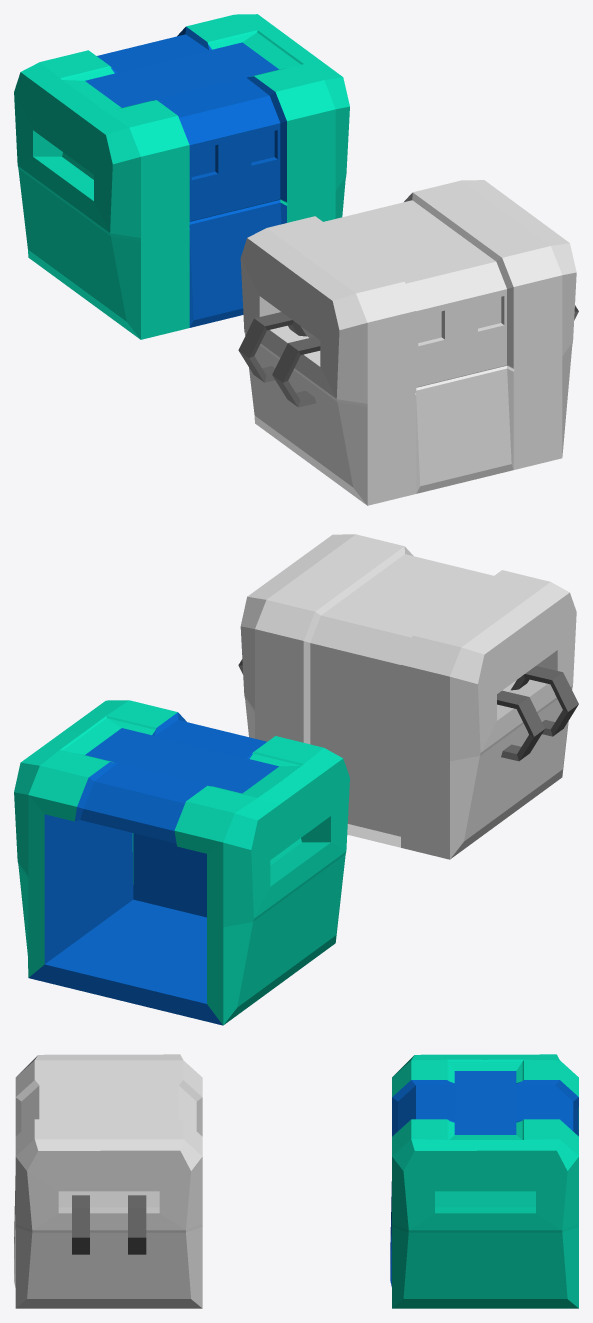
The model's file is ExportedBlenderFBXFile.fbx.
3 views of the same model, one above another, from view 1: azimuth 30°, elevation 25°; view 2: azimuth 150°, elevation 25°; view 3: azimuth 270°, elevation 25° (orthographic). The views are drawn at different scales.
Visible parts, largest first — view 1: Cube.001, Cube, Cylinder.007, Cylinder.006; view 2: Cube, Cube.001, Cylinder.006, Cylinder.007; view 3: Cube, Cube.001, Cylinder.004, Cylinder.005.
Boxes of the visible parts, left/top/right/bottom form: Cube.001: left=240, top=180, right=576, bottom=505; Cube: left=14, top=14, right=349, bottom=339; Cylinder.007: left=238, top=312, right=306, bottom=382; Cylinder.006: left=272, top=337, right=320, bottom=407; Cube: left=14, top=700, right=349, bottom=1025; Cube.001: left=240, top=534, right=576, bottom=859; Cylinder.006: left=511, top=666, right=578, bottom=736; Cylinder.007: left=497, top=690, right=544, bottom=761; Cube: left=390, top=1054, right=578, bottom=1308; Cube.001: left=14, top=1054, right=202, bottom=1308; Cylinder.004: left=128, top=1195, right=146, bottom=1254; Cylinder.005: left=72, top=1195, right=89, bottom=1254.
Size of the model in its own units: 3.04 by 2 by 6.05.
